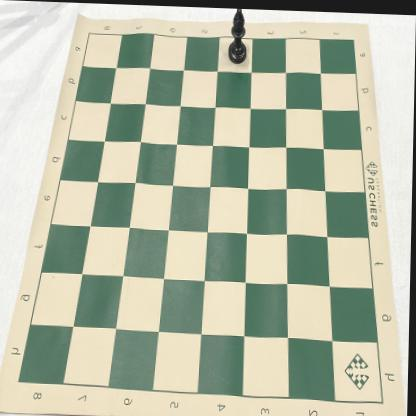black-bishop: (227, 7, 248, 63)
